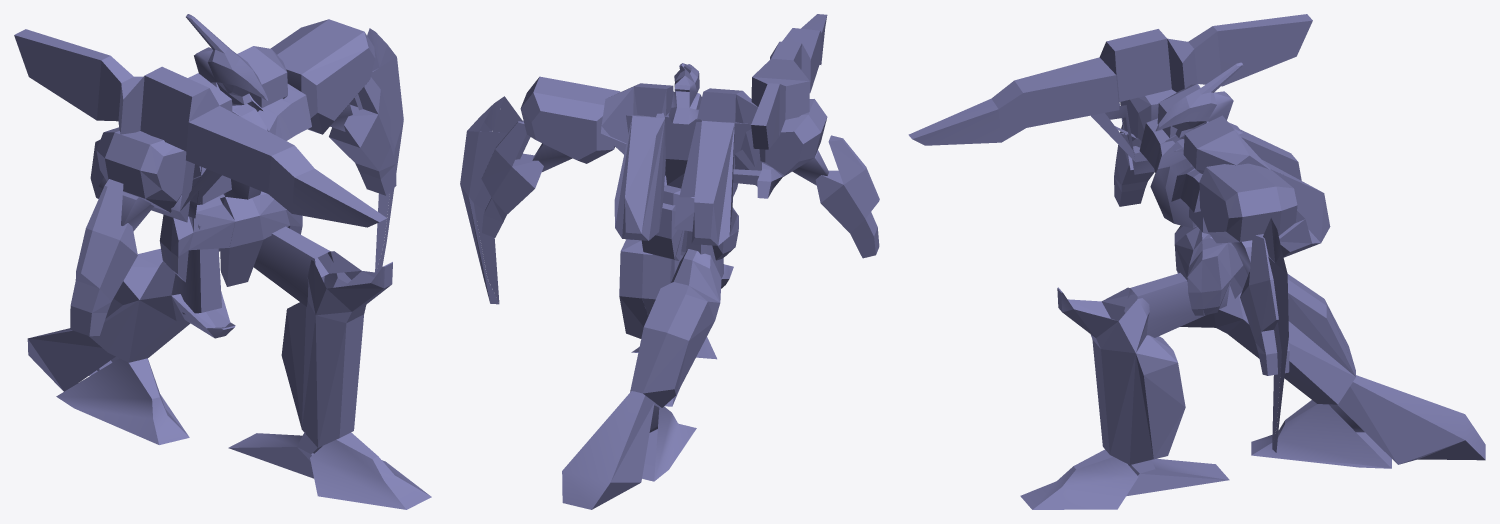
The model's file is robot2.obj.
3 views of the same model, side by side, from view 1: azimuth 30°, elevation 25°; view 2: azimuth 150°, elevation 25°; view 3: azimuth 270°, elevation 25° (orthographic). The views are drawn at different scales.
Parts seen in each view (by area): view 1: robot2; view 2: robot2; view 3: robot2.
Boxes of the visible parts, x1,y1,x2,y2 form: robot2: (14, 14, 431, 509); robot2: (460, 14, 879, 509); robot2: (908, 14, 1485, 509).
Bounding box in the file's own units: 14.08 × 13.96 × 18.55.
